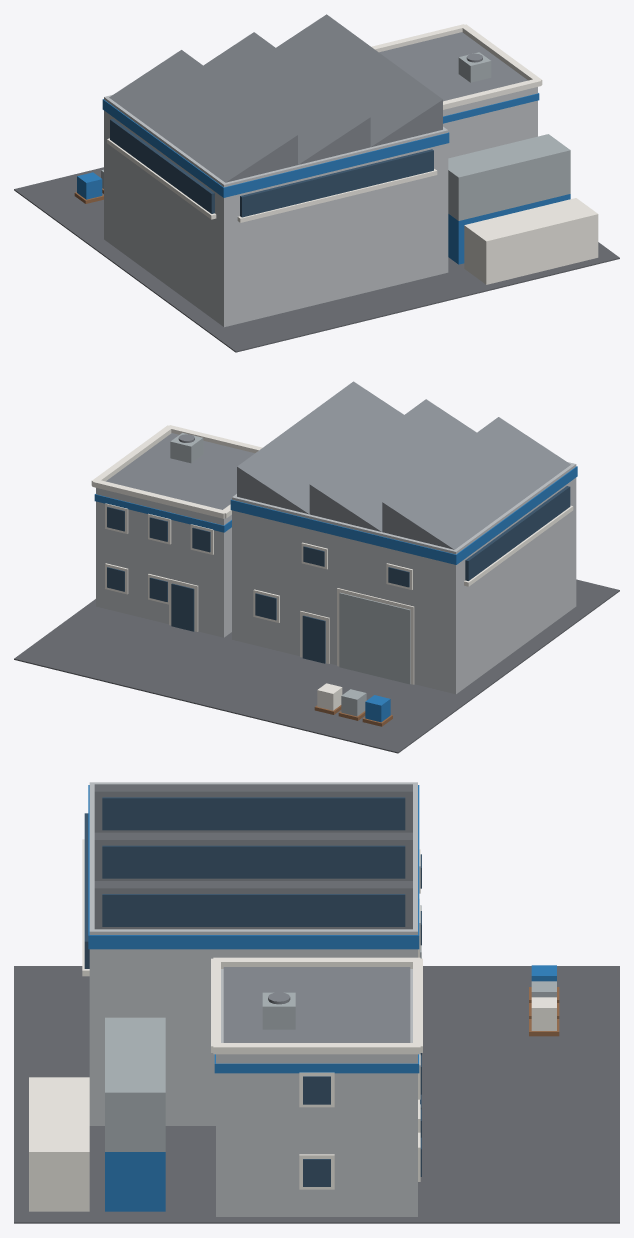
3 renders of one model, top to bottom at view 1: azimuth 30°, elevation 25°; view 2: azimuth 150°, elevation 25°; view 3: azimuth 270°, elevation 25°, orthographic. The views are drawn at different scales.
Parts seen in each view (by area): view 1: production_hall, roof (×4), container (×3), yard, window_band (×2), office, cladding_band, parapet (×3), sill (×2), accent_stripe, ac_unit_body, crate; view 2: roof (×4), production_hall, yard, office, garage_door, cladding_band, parapet (×3), window_band, door (×2), crate (×3), accent_stripe, garage_door_frame (+2 smaller); view 3: yard, roof (×4), skylight (×3), office, production_hall, container (×3), parapet (×4), cladding_band, accent_stripe, window_glass (×2), ac_unit_body, crate (+1 smaller).
Part boxes in pixels (<box>): production_hall: <box>104,95,448,327</box>; roof (×4): <box>109,14,527,182</box>; container (×3): <box>448,134,598,284</box>; yard: <box>14,167,619,352</box>; window_band (×2): <box>110,119,433,217</box>; office: <box>443,87,537,158</box>; cladding_band: <box>102,99,449,197</box>; parapet (×3): <box>371,24,542,109</box>; sill (×2): <box>107,138,437,222</box>; accent_stripe: <box>443,93,539,123</box>; ac_unit_body: <box>458,52,491,82</box>; crate: <box>77,172,102,199</box>; roof (×4): <box>106,381,570,549</box>; production_hall: <box>232,462,576,694</box>; yard: <box>14,579,619,753</box>; office: <box>96,488,231,637</box>; garage_door: <box>339,592,410,684</box>; cladding_band: <box>230,466,577,564</box>; parapet (×3): <box>91,425,262,518</box>; window_band: <box>465,486,570,580</box>; door (×2): <box>171,583,325,663</box>; crate (×3): <box>317,683,390,722</box>; accent_stripe: <box>94,494,231,532</box>; garage_door_frame: <box>337,588,414,684</box>; yard: <box>14,966,619,1223</box>; roof (×4): <box>94,784,412,1042</box>; skylight (×3): <box>102,797,405,926</box>; office: <box>216,969,417,1216</box>; production_hall: <box>89,782,417,1125</box>; container (×3): <box>29,1017,165,1211</box>; parapet (×4): <box>211,957,422,1054</box>; cladding_band: <box>88,785,419,949</box>; accent_stripe: <box>214,1054,419,1073</box>; window_glass (×2): <box>303,1076,330,1186</box>; ac_unit_body: <box>262,992,295,1029</box>; crate: <box>531,997,556,1030</box>.
Bounding box in the file's own units: 24 × 10.37 × 24.
